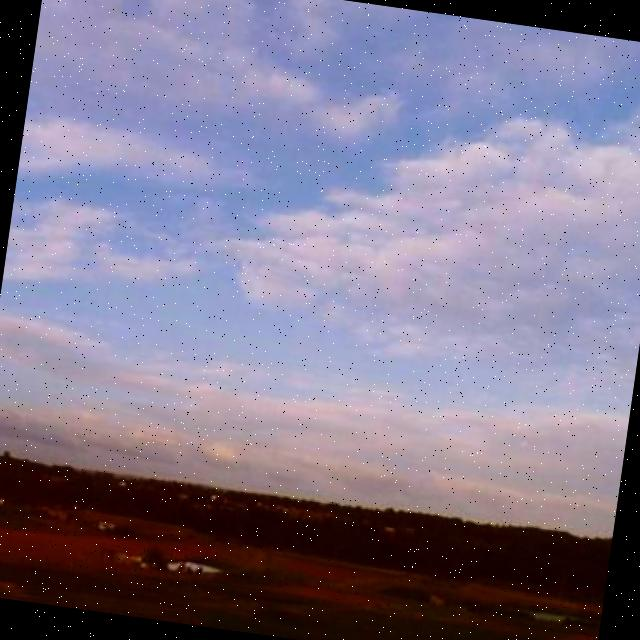St: (195, 37, 640, 423)
